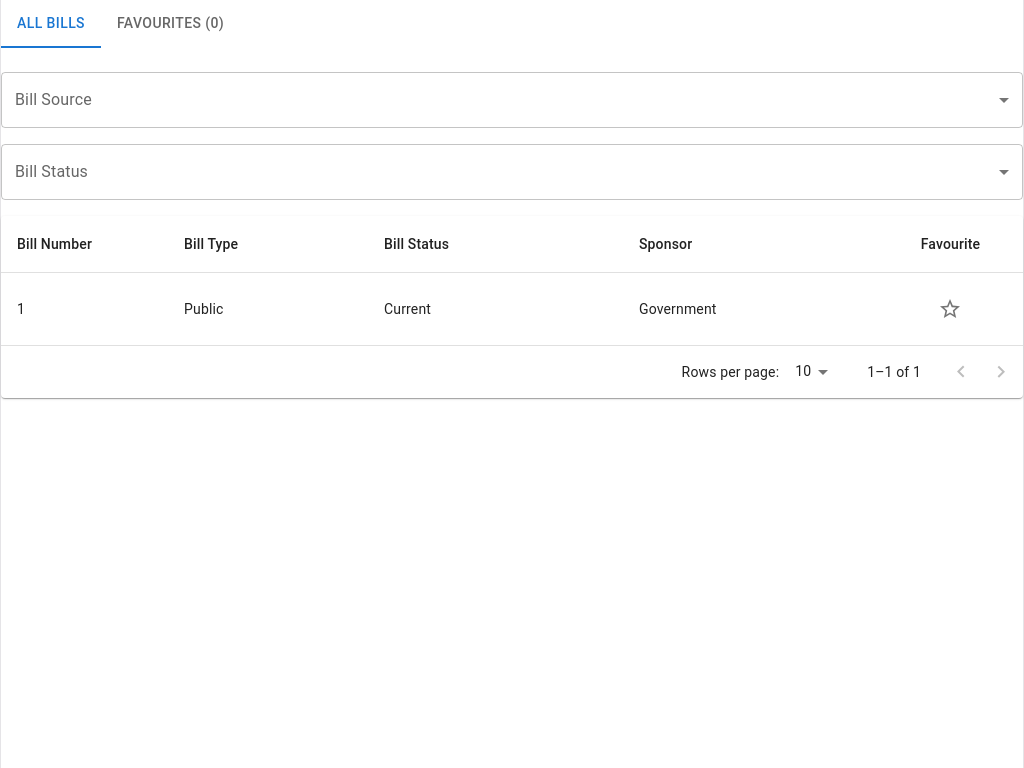
Test case: BillsPage › opens modal on row click
Click the cell "1" at (84, 310), box left=1, top=273, right=168, bottom=346
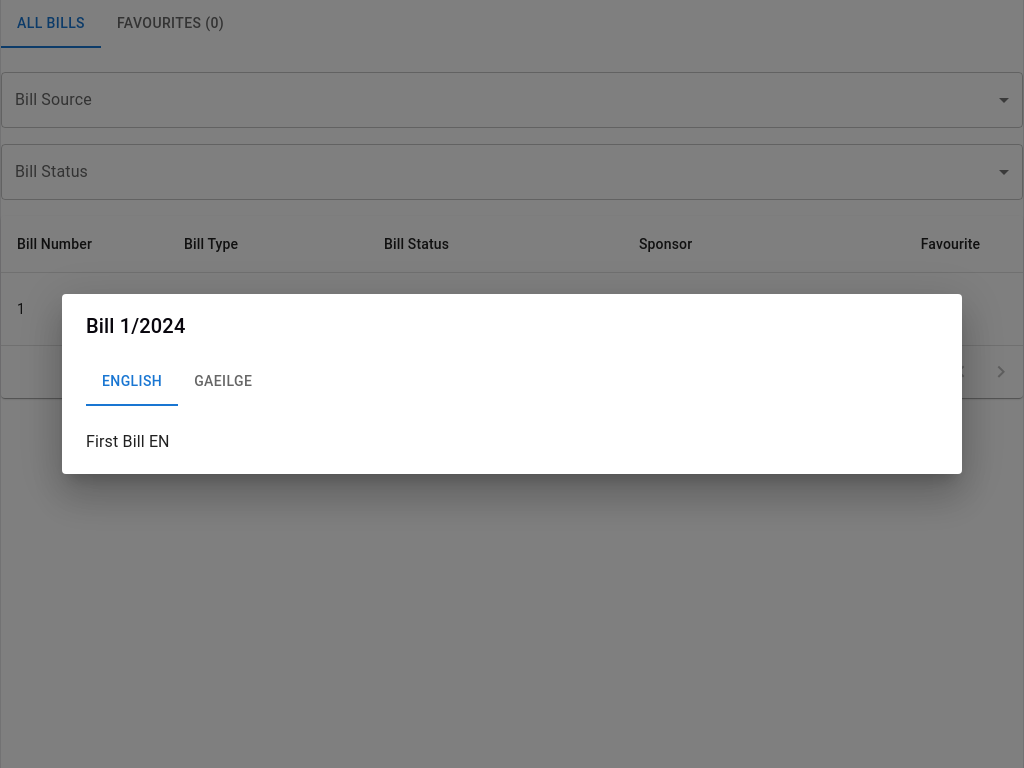
Result: the heading "Bill 1/2024" is shown at left=86, top=314, right=185, bottom=338
